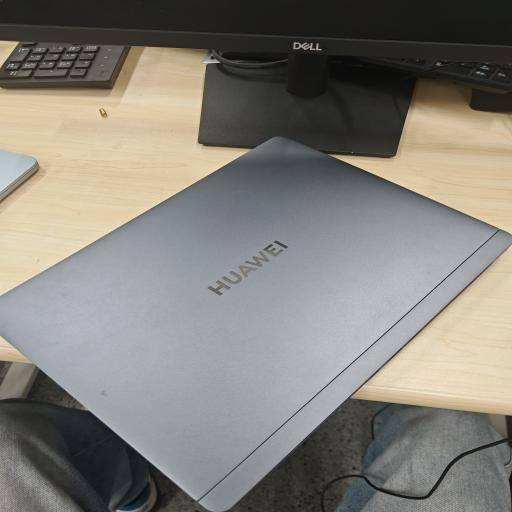laptop: (0, 137, 512, 512)
